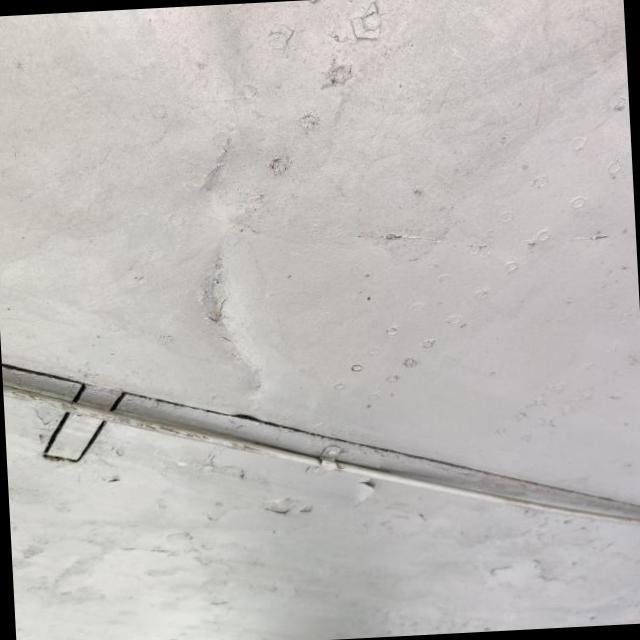dent: (197, 230, 260, 402)
